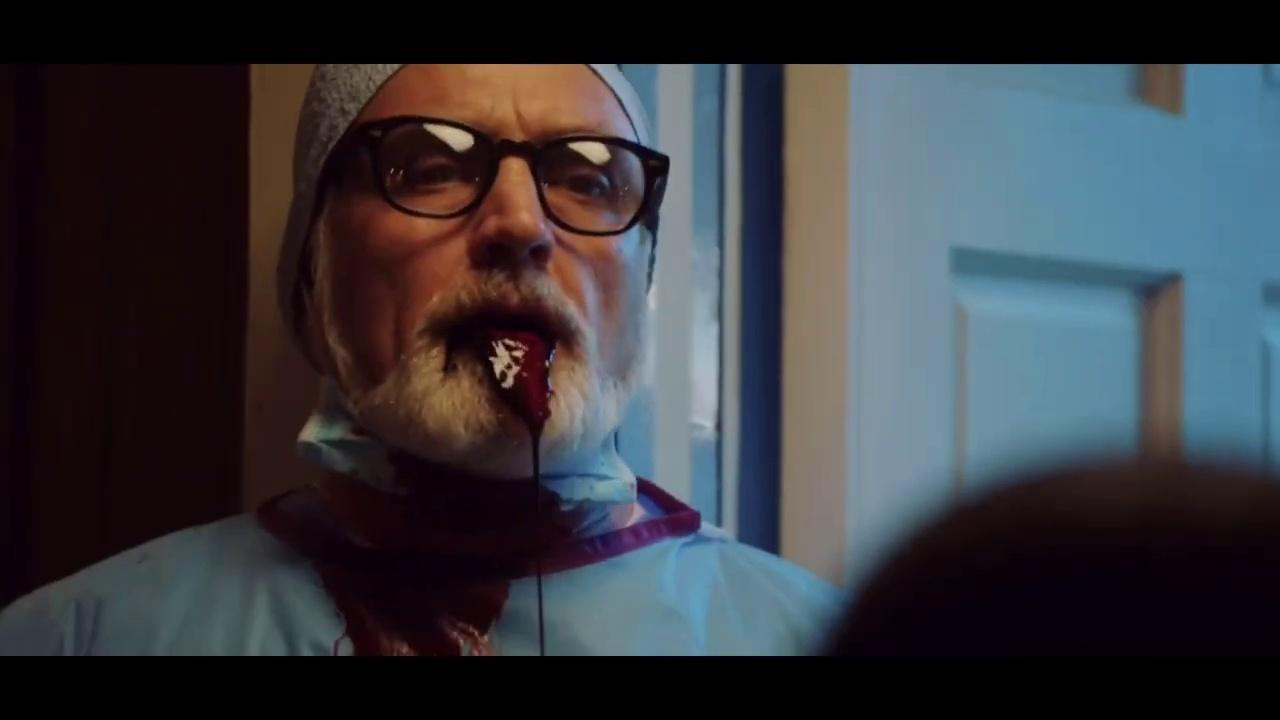Fire: (262, 481, 621, 655), (448, 330, 556, 518), (540, 477, 701, 571), (539, 574, 544, 656)
